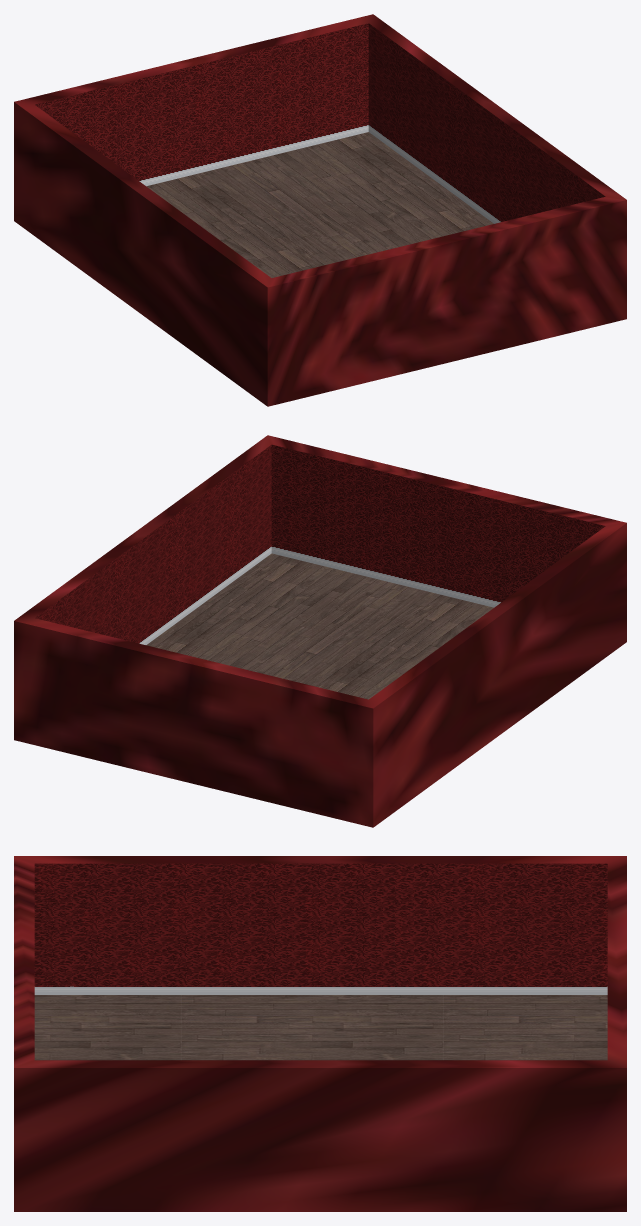
The model's file is roomuvok.fbx.
The picture shows the model from 3 angles, top to bottom: view 1: azimuth 30°, elevation 25°; view 2: azimuth 150°, elevation 25°; view 3: azimuth 270°, elevation 25°; orthographic projection. The views are drawn at different scales.
Visible parts, largest first — view 1: wall:pCube3; view 2: wall:pCube3; view 3: wall:pCube3.
Part boxes in pixels (<box>): wall:pCube3: <box>14,14,626,406</box>; wall:pCube3: <box>14,435,626,827</box>; wall:pCube3: <box>14,856,626,1211</box>.
Size of the model in its own units: 9164 by 2906 by 11210.
3 materials, 3 textured.
